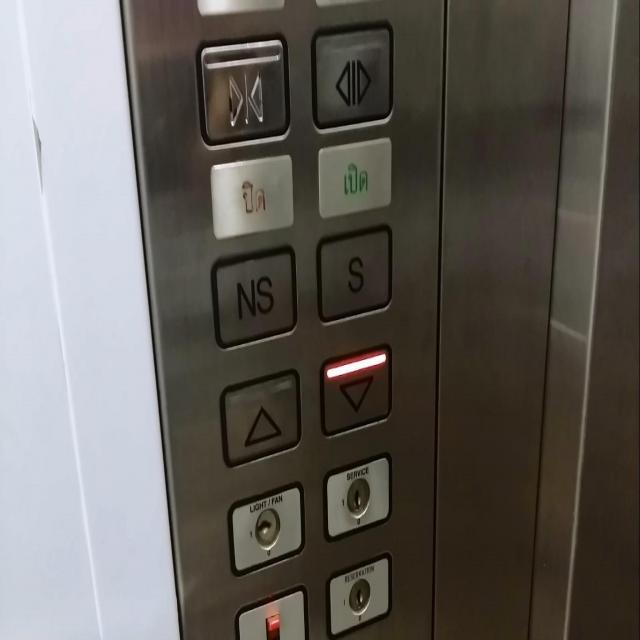NS: (208, 237, 302, 351)
S: (313, 216, 397, 328)
bt_keyhole: (225, 474, 308, 578), (321, 444, 395, 546), (326, 546, 398, 639)
close: (194, 28, 293, 152)
down: (314, 337, 396, 438)
open: (308, 18, 398, 134)
up: (216, 361, 305, 473)
